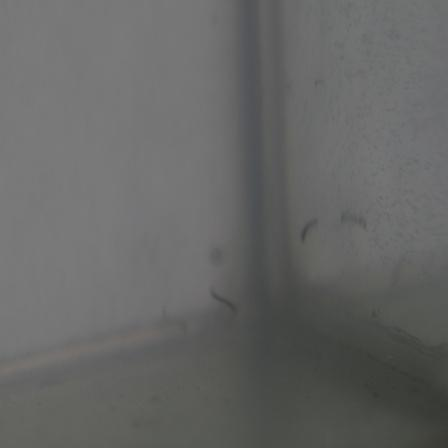Jentik-Nyamuk: (206, 286, 241, 321)
